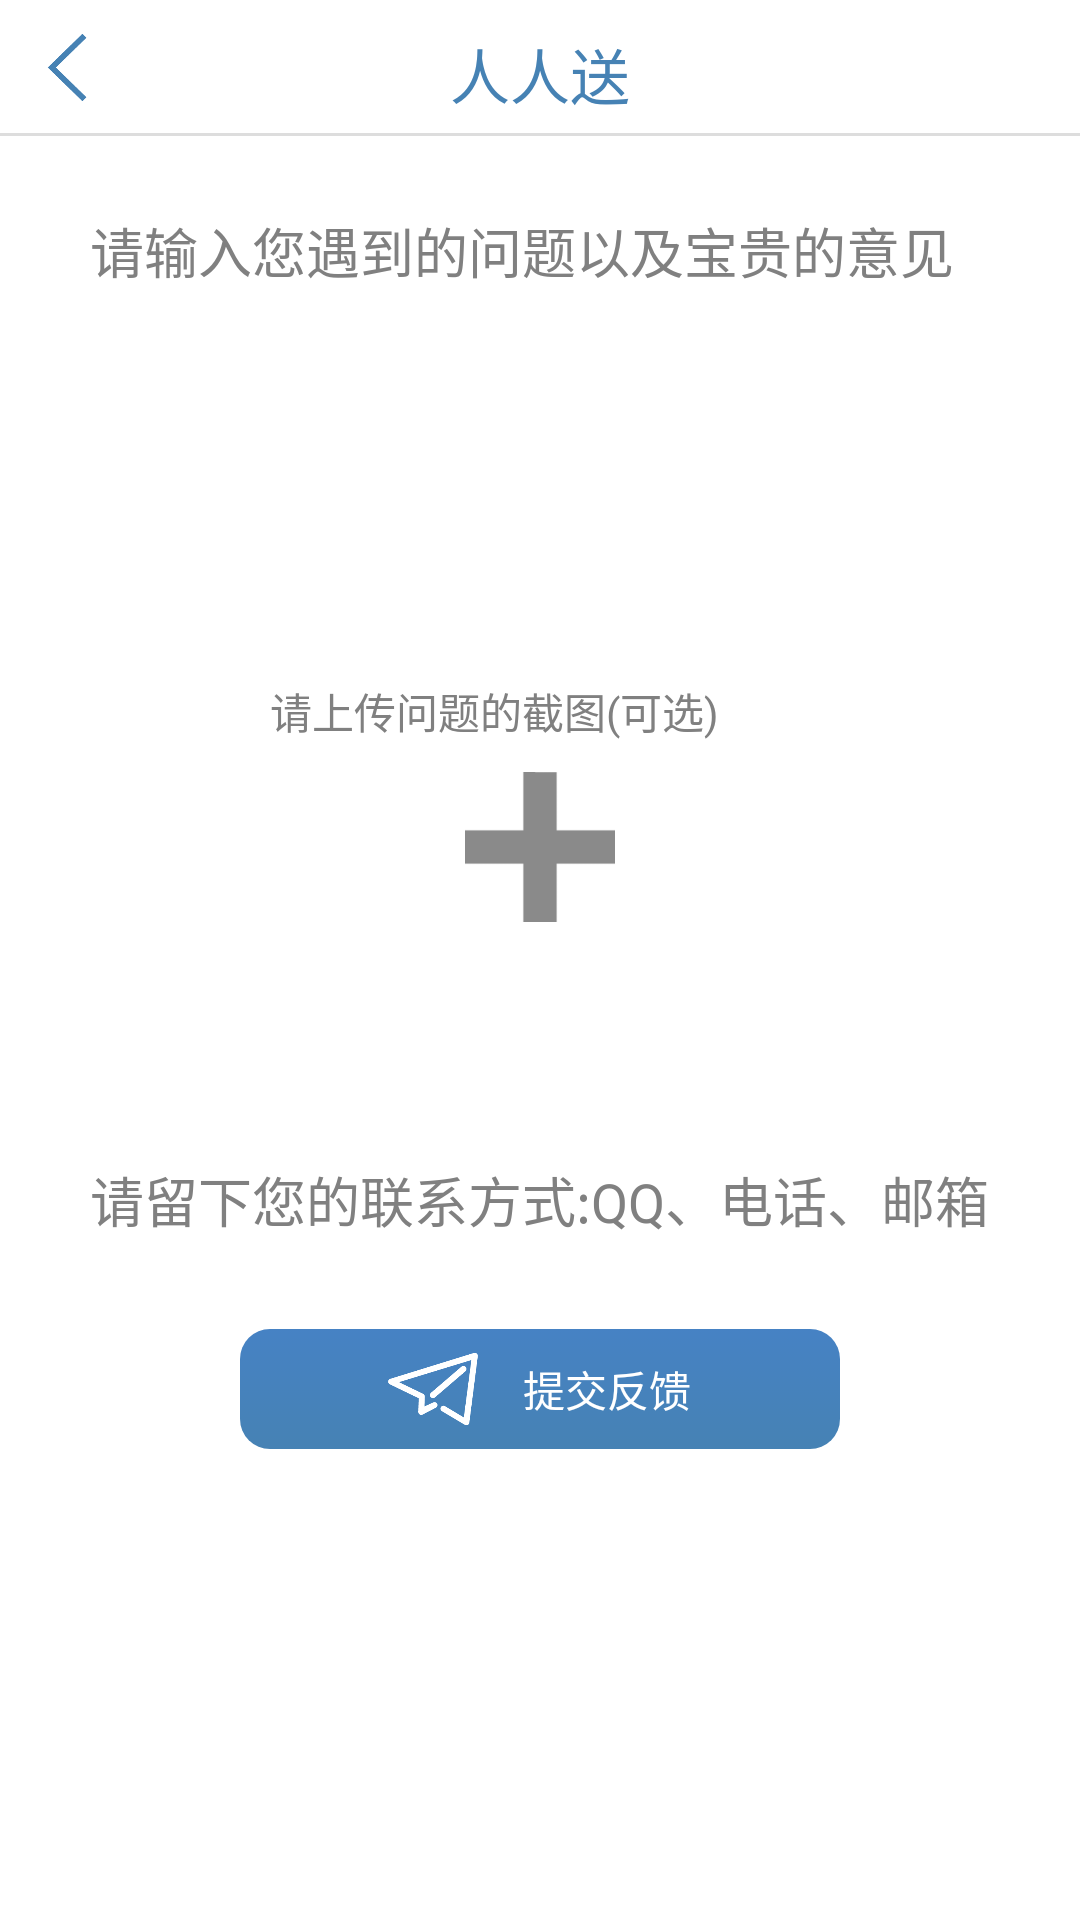

Icons on this 1080px x 1920px Android screen, each with its box as [left=x1, top=y1, right=x2, bottom=y2]:
add: [left=465, top=772, right=615, bottom=922]
back: [left=48, top=34, right=86, bottom=101]
commit: [left=388, top=1353, right=478, bottom=1425]
